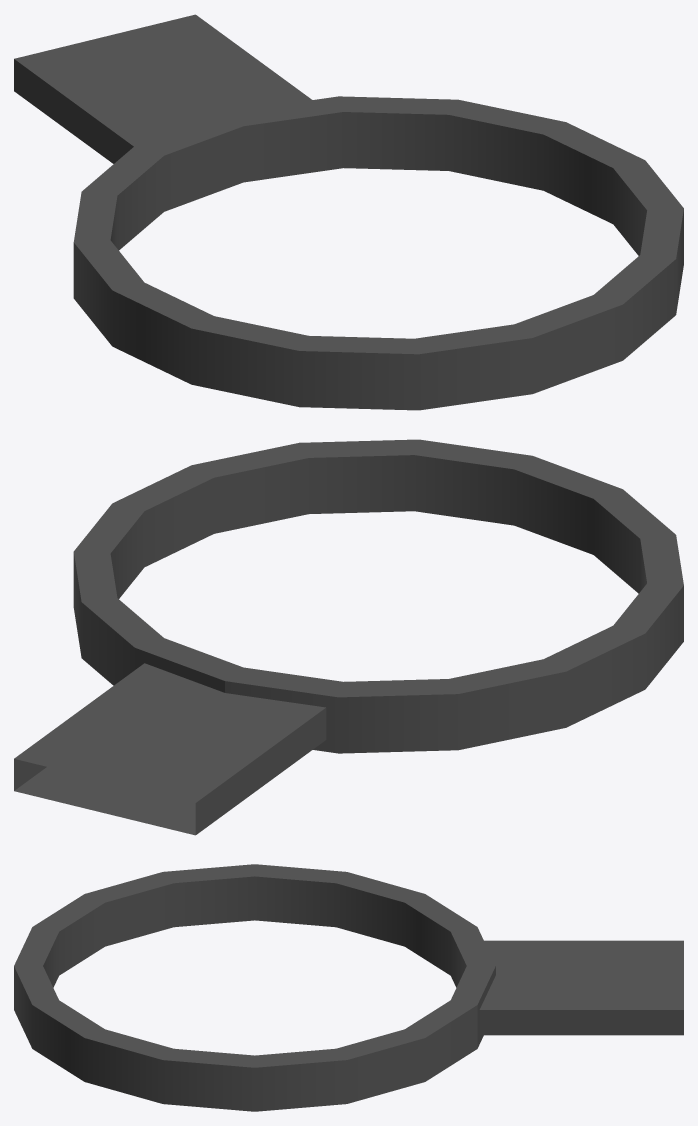
File: AlcoholDisp_2_C.obj
The picture shows the model from 3 angles, top to bottom: view 1: azimuth 30°, elevation 25°; view 2: azimuth 150°, elevation 25°; view 3: azimuth 270°, elevation 25°; orthographic projection. The views are drawn at different scales.
Parts seen in each view (by area): view 1: AlcoholDisp_2_C; view 2: AlcoholDisp_2_C; view 3: AlcoholDisp_2_C.
Boxes of the visible parts, box(x1,y1,x2,y2) form: AlcoholDisp_2_C: box(14, 14, 683, 410); AlcoholDisp_2_C: box(14, 439, 683, 835); AlcoholDisp_2_C: box(14, 864, 683, 1111).
Bounding box in the file's own units: 0.2368 × 0.0239 × 0.3292.
